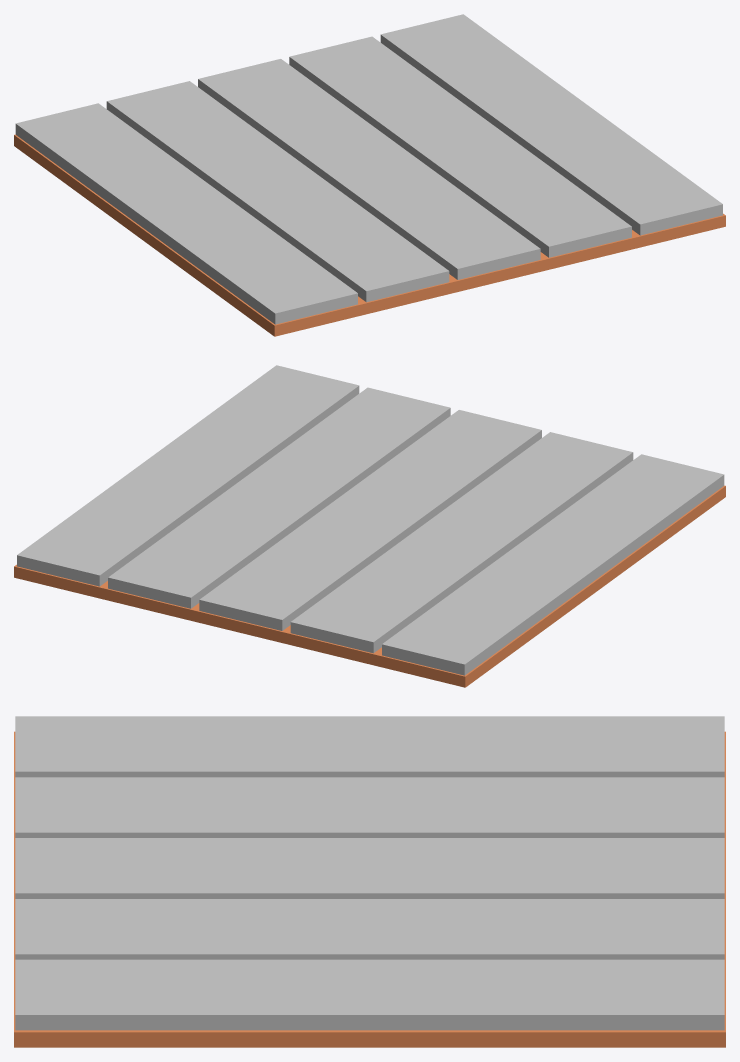
The model's file is HoneyBoxTop.fbx.
The picture shows the model from 3 angles, top to bottom: view 1: azimuth 30°, elevation 25°; view 2: azimuth 150°, elevation 25°; view 3: azimuth 270°, elevation 25°; orthographic projection. The views are drawn at different scales.
Parts seen in each view (by area): view 1: TopUpPlanks, TopDownPlank; view 2: TopUpPlanks, TopDownPlank; view 3: TopUpPlanks, TopDownPlank.
Boxes of the visible parts, <box> form: TopUpPlanks: <box>15,14,722,324</box>; TopDownPlank: <box>14,134,725,336</box>; TopUpPlanks: <box>17,365,724,675</box>; TopDownPlank: <box>14,485,725,687</box>; TopUpPlanks: <box>15,716,724,1030</box>; TopDownPlank: <box>14,731,725,1047</box>.
Size of the model in its own units: 143 by 6.83 by 143.
